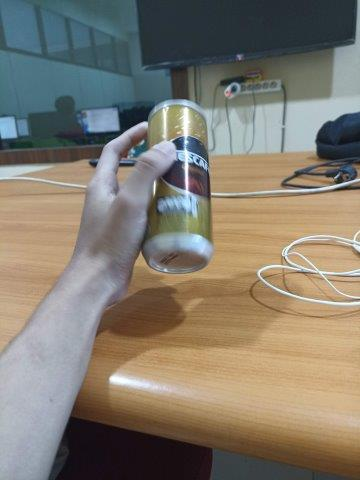kaleng: (141, 98, 214, 274)
